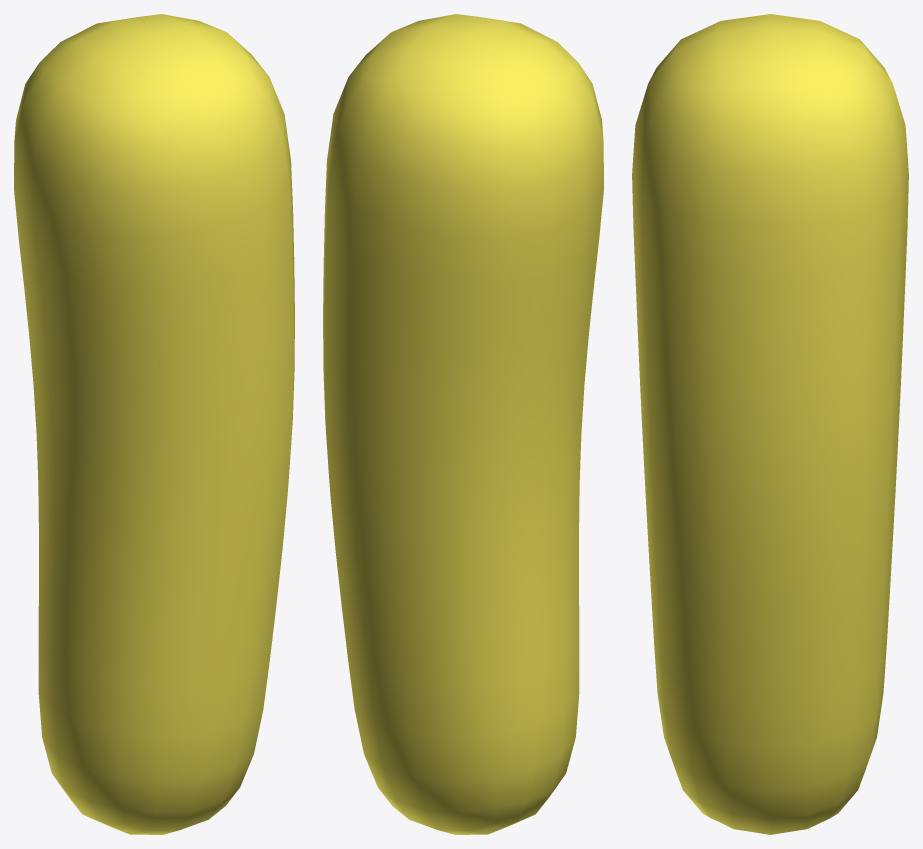
Rendered from SM_Partygoer_Thigh.fbx.
3 renders of one model, left to right at view 1: azimuth 30°, elevation 25°; view 2: azimuth 150°, elevation 25°; view 3: azimuth 270°, elevation 25°, orthographic.
Visible parts, largest first — view 1: SM_Partygoer_Thigh; view 2: SM_Partygoer_Thigh; view 3: SM_Partygoer_Thigh.
Boxes of the visible parts, x1,y1,x2,y2 form: SM_Partygoer_Thigh: (14, 14, 294, 834); SM_Partygoer_Thigh: (323, 14, 603, 834); SM_Partygoer_Thigh: (632, 14, 908, 834).
Bounding box in the file's own units: 13.28 × 41.29 × 13.03.
